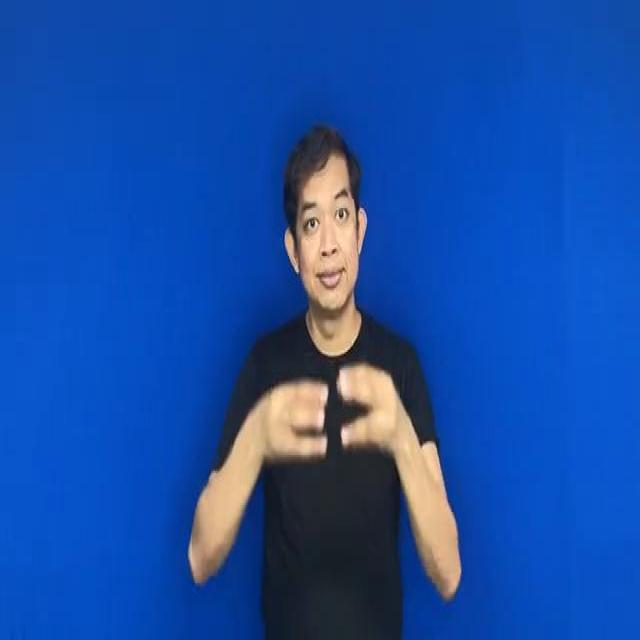egg: (246, 342, 414, 477)
